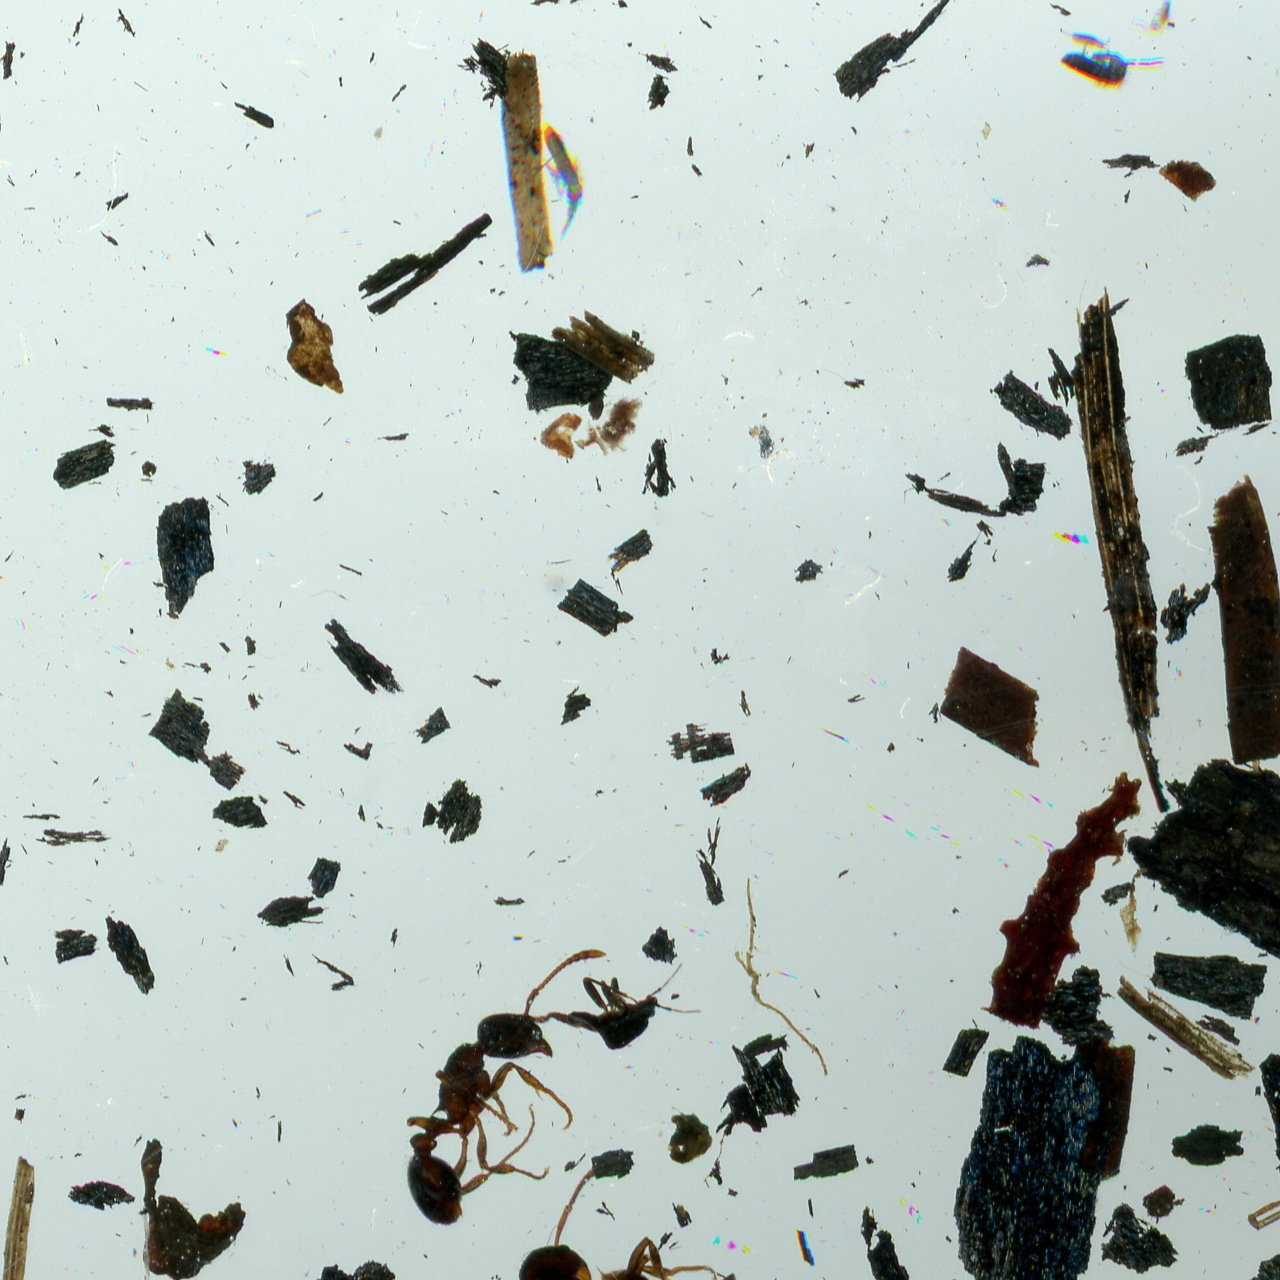arthropod: (399, 932, 618, 1241), (461, 1169, 737, 1280), (567, 959, 703, 1053), (515, 104, 602, 244), (1247, 1089, 1280, 1280), (1055, 47, 1167, 96), (1048, 20, 1115, 60), (1129, 0, 1185, 33)
